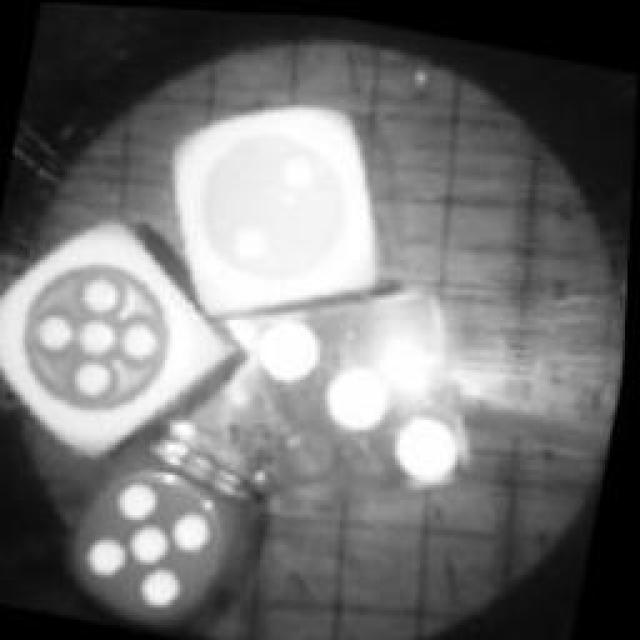dice_2: (135, 69, 437, 349)
dice_3: (216, 249, 516, 536)
dice_5: (0, 192, 270, 482), (50, 422, 280, 640)
